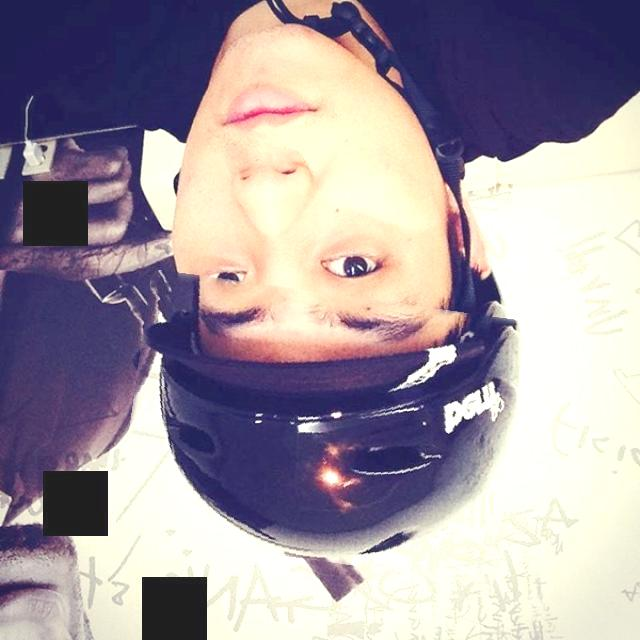helmet: (124, 282, 522, 572)
